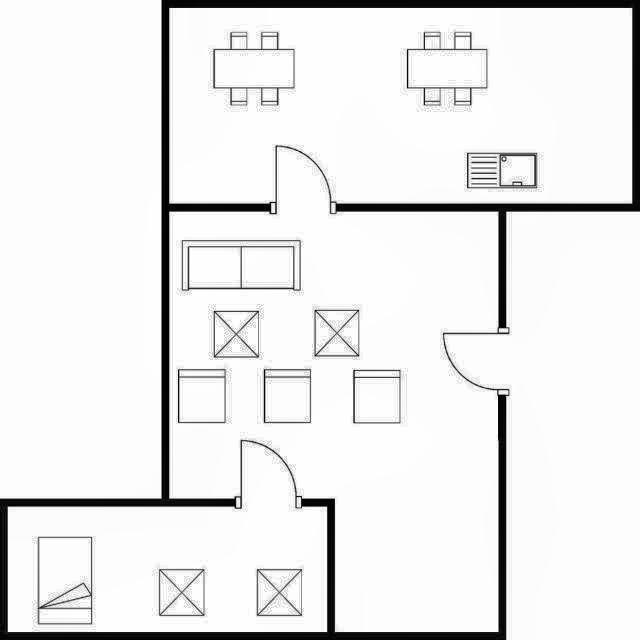room: (169, 212, 499, 632), (169, 8, 632, 204), (8, 507, 327, 632)
